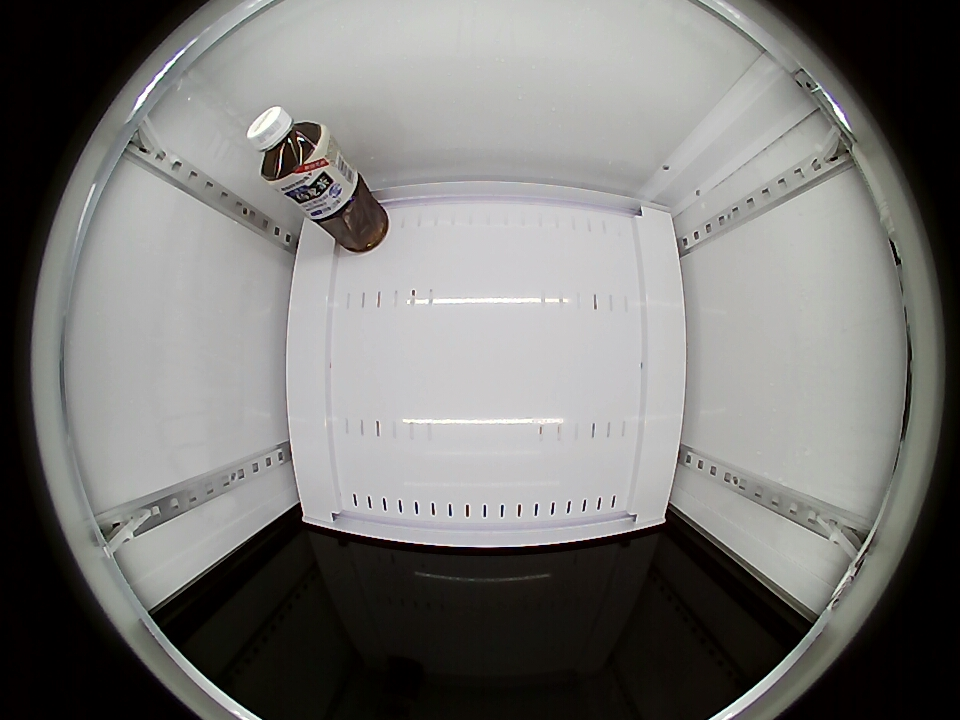wulongcha: (247, 106, 330, 190)
